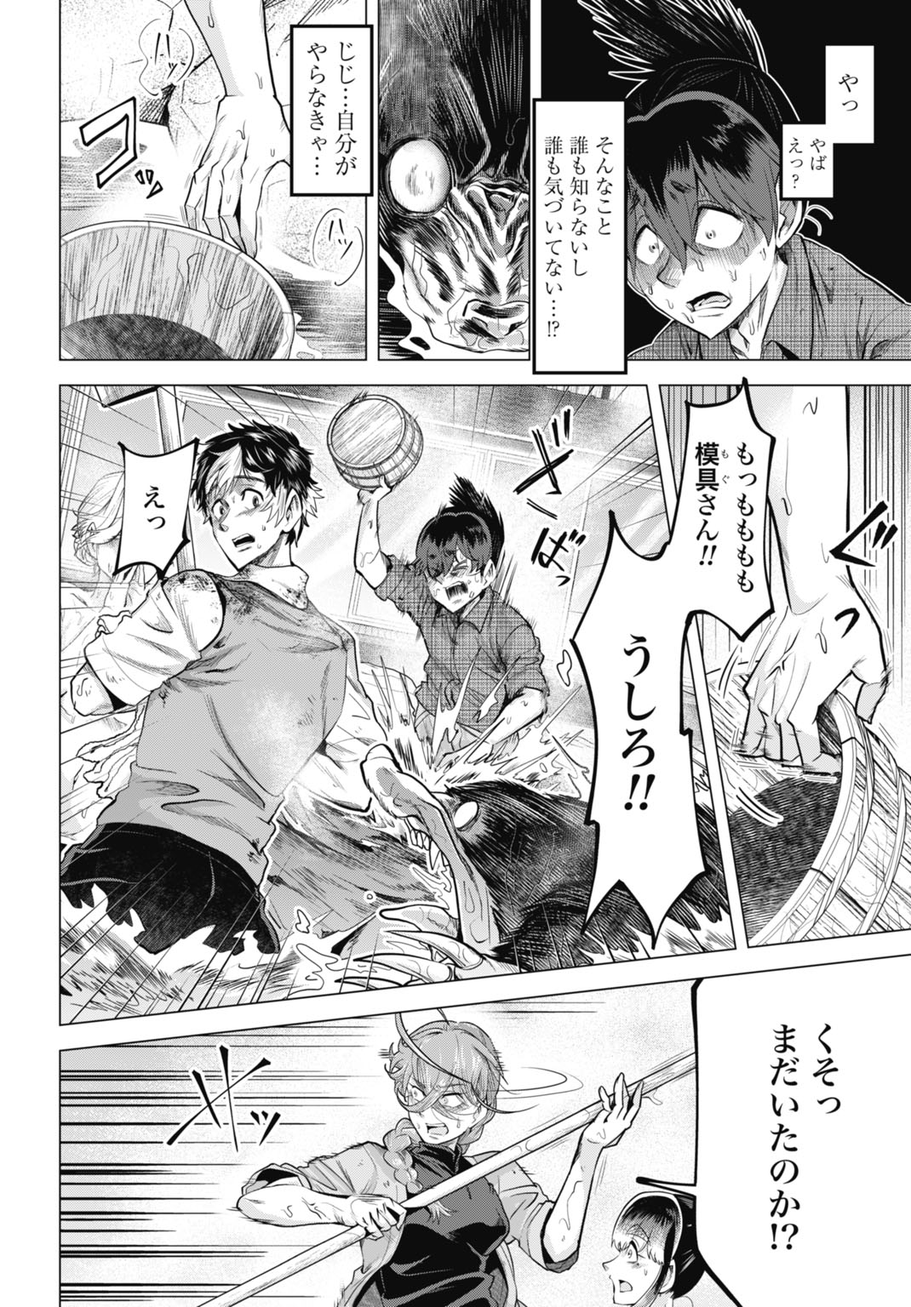bubbles: (564, 374, 784, 958), (629, 947, 911, 1304), (529, 95, 632, 380), (777, 38, 879, 203), (287, 20, 375, 202), (114, 434, 199, 581)
